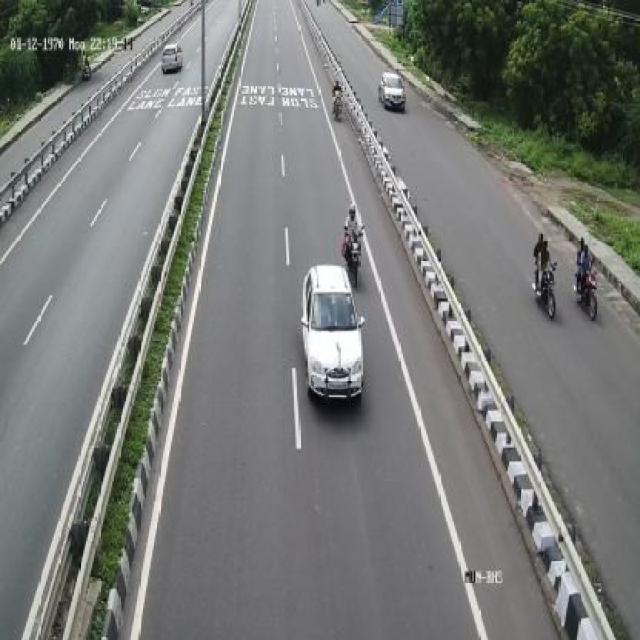car: (303, 257, 366, 412), (380, 66, 409, 114)
